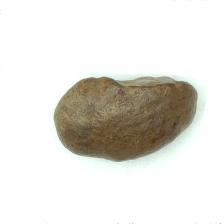NG: (109, 69, 196, 102)
